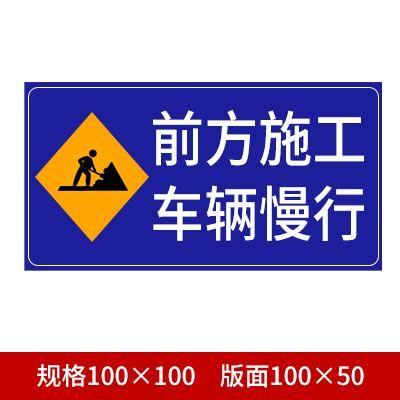sign: (26, 84, 381, 268)
